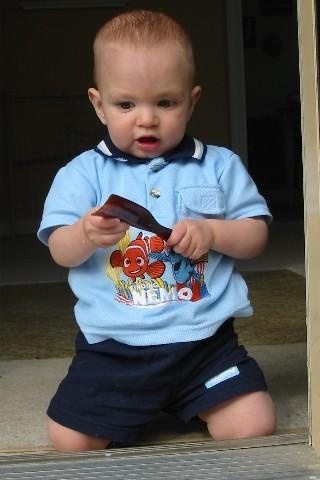head: (88, 9, 204, 159)
person: (28, 1, 288, 480)
